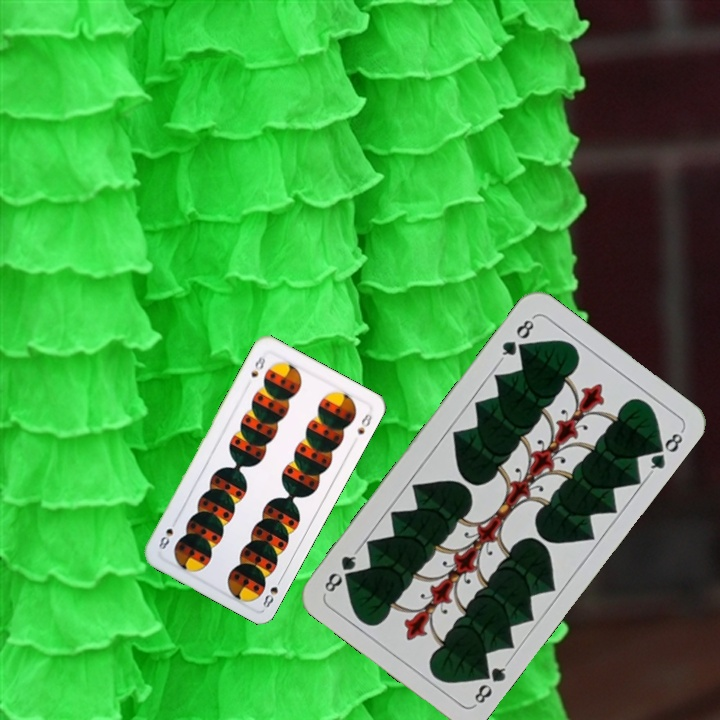G8: (496, 313, 538, 363), (470, 658, 512, 708)
S8: (259, 573, 285, 611), (247, 349, 268, 380)
